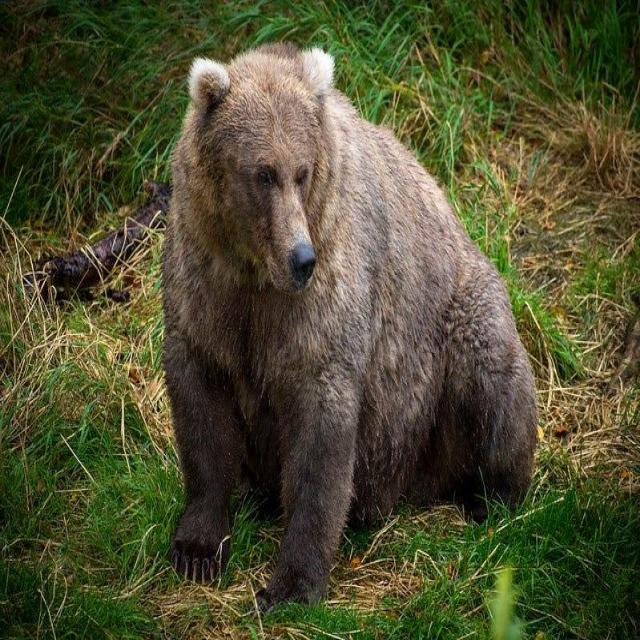Bear: (160, 44, 539, 611)
